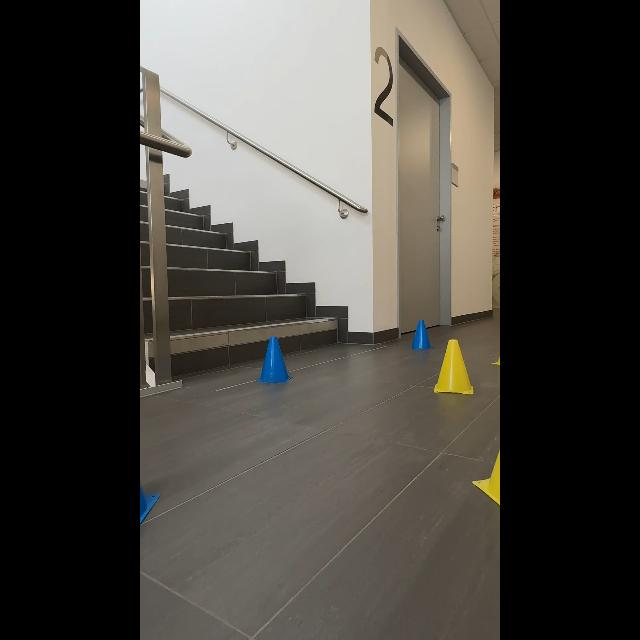blue_cone: (252, 331, 300, 387), (407, 309, 437, 355)
yellow_cone: (424, 331, 482, 402)
